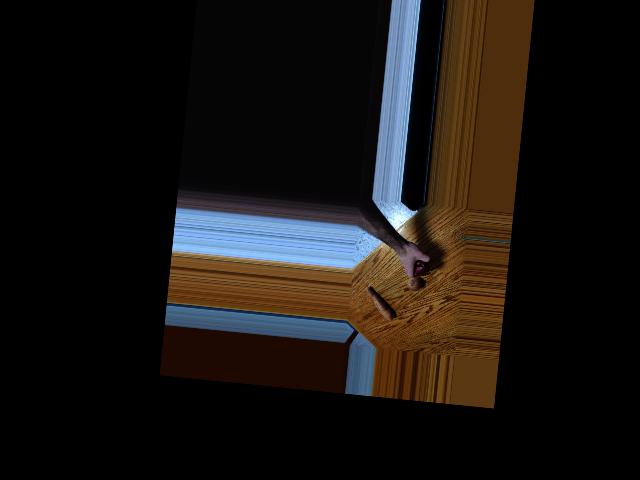onion: (406, 274, 423, 292)
